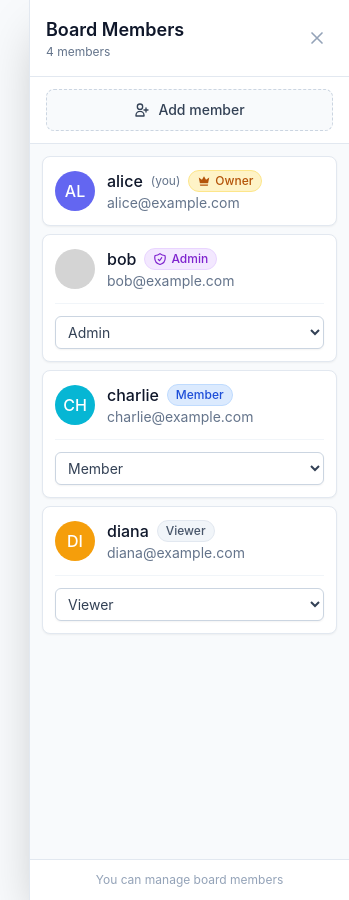
Scenario: BoardMembersPanel › add member functionality (canManage=true) › expands search form when "Add member" is clicked
Click the button "Add member".
click(190, 110)  # box [46,89,333,131]
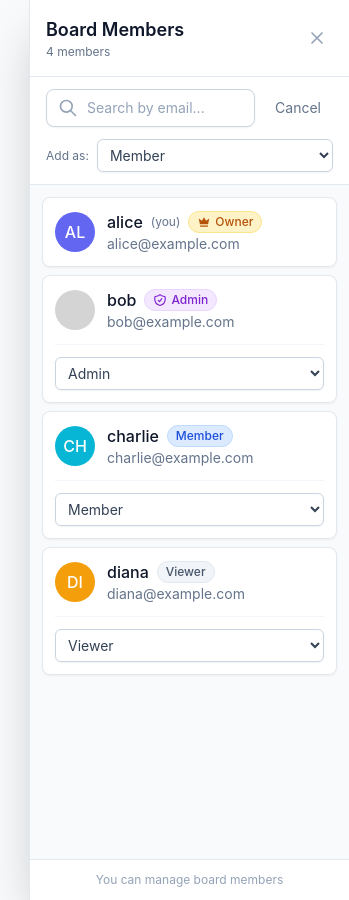
Expected: the field with placeholder "Search by email..." is shown, [46,89,255,127]
